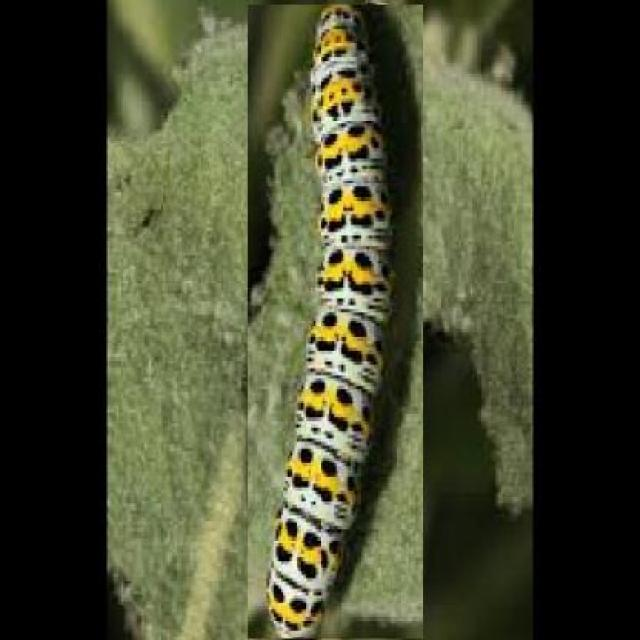Plaga: (247, 4, 426, 640)
